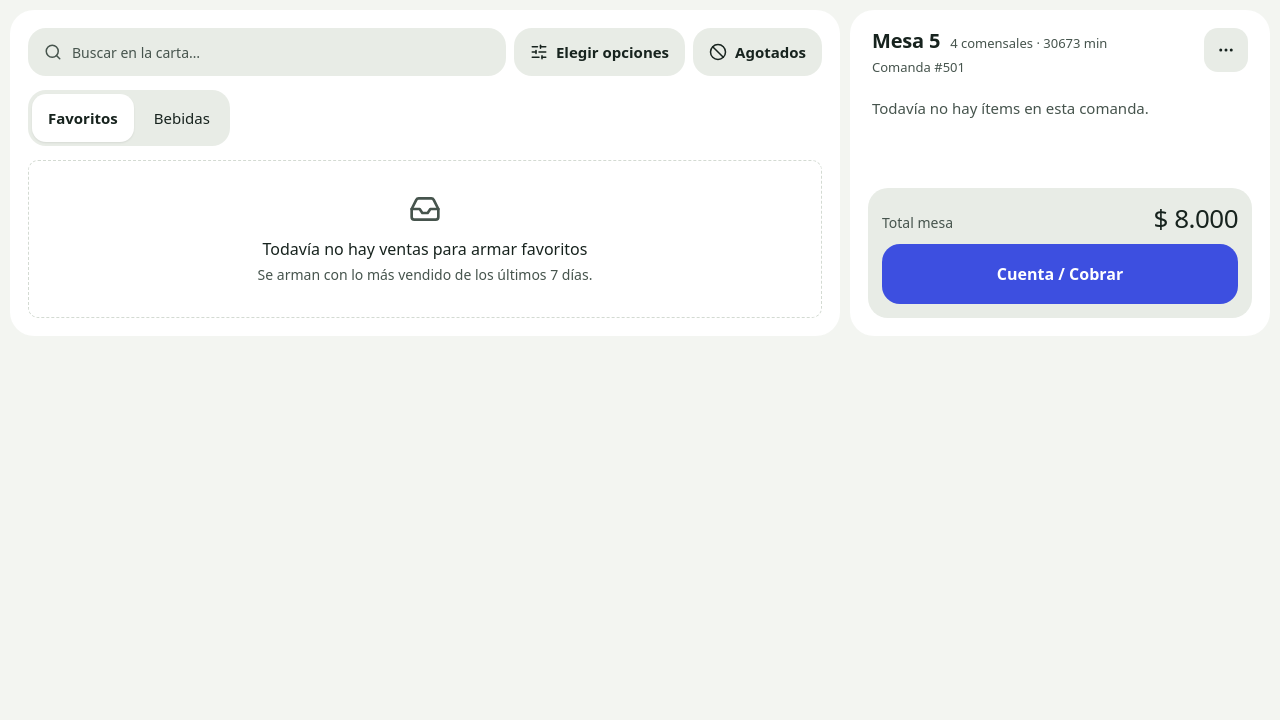
Test case: OrderPage › toque en la carta › «Elegir opciones» abre el diálogo para el próximo plato, y el siguiente toque vuelve a sumar directo
The image size is (1280, 720).
Click the button "Bebidas" at (182, 118), box [138,94,226,142]
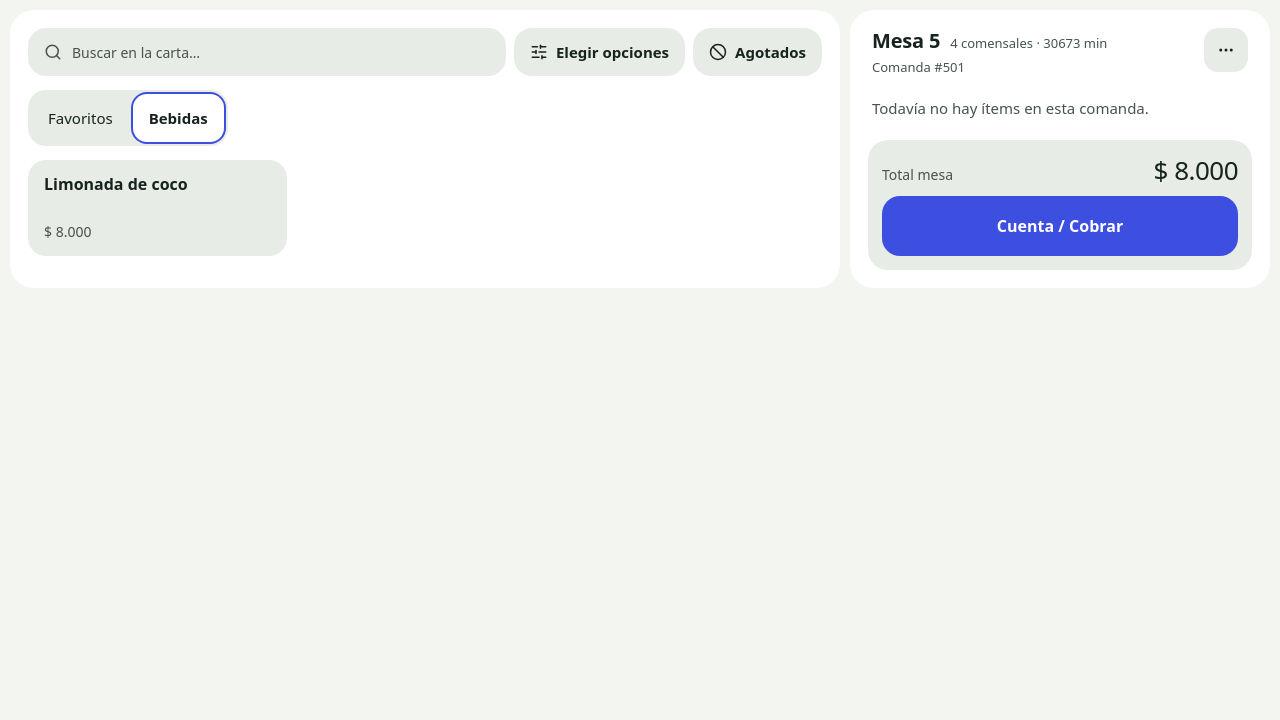
Click the button "Elegir opciones" at (600, 52), box [514,28,685,76]
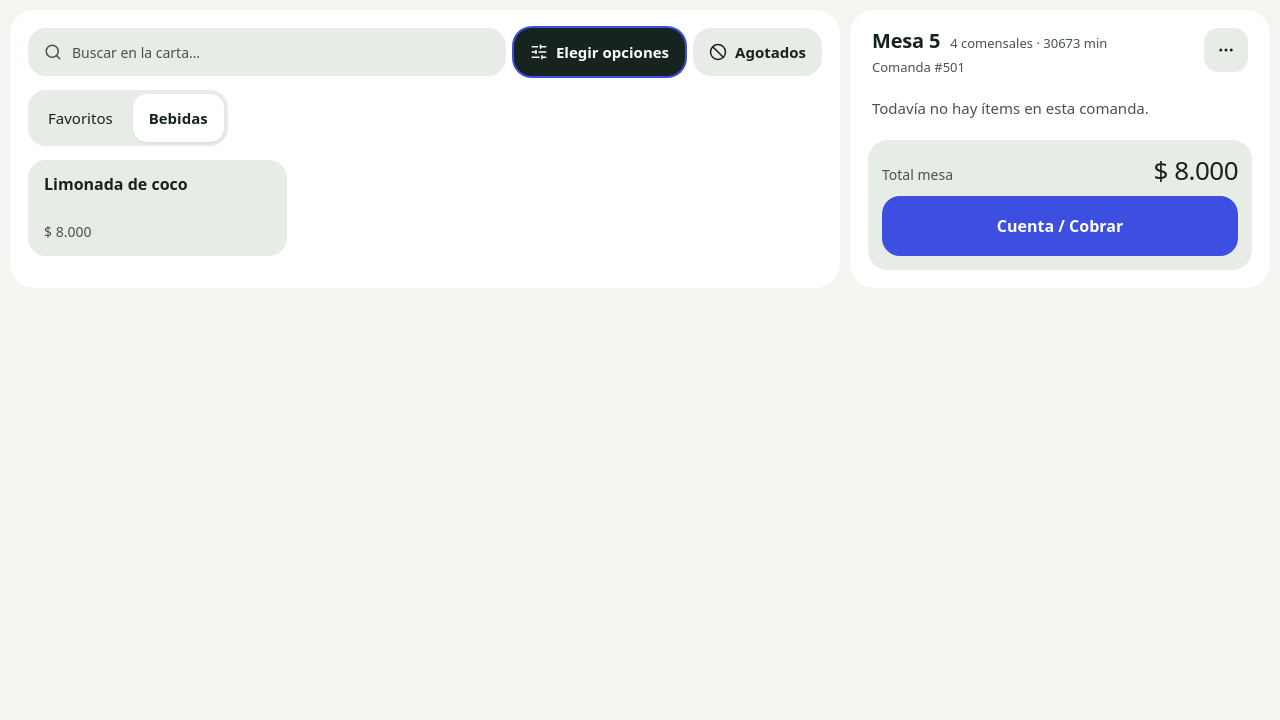
Result: the button "Elegir opciones" is pressed at [514,28,685,76]
Click the button with aria-label "agregar limonada de coco" at (158, 208), box [28,160,287,256]
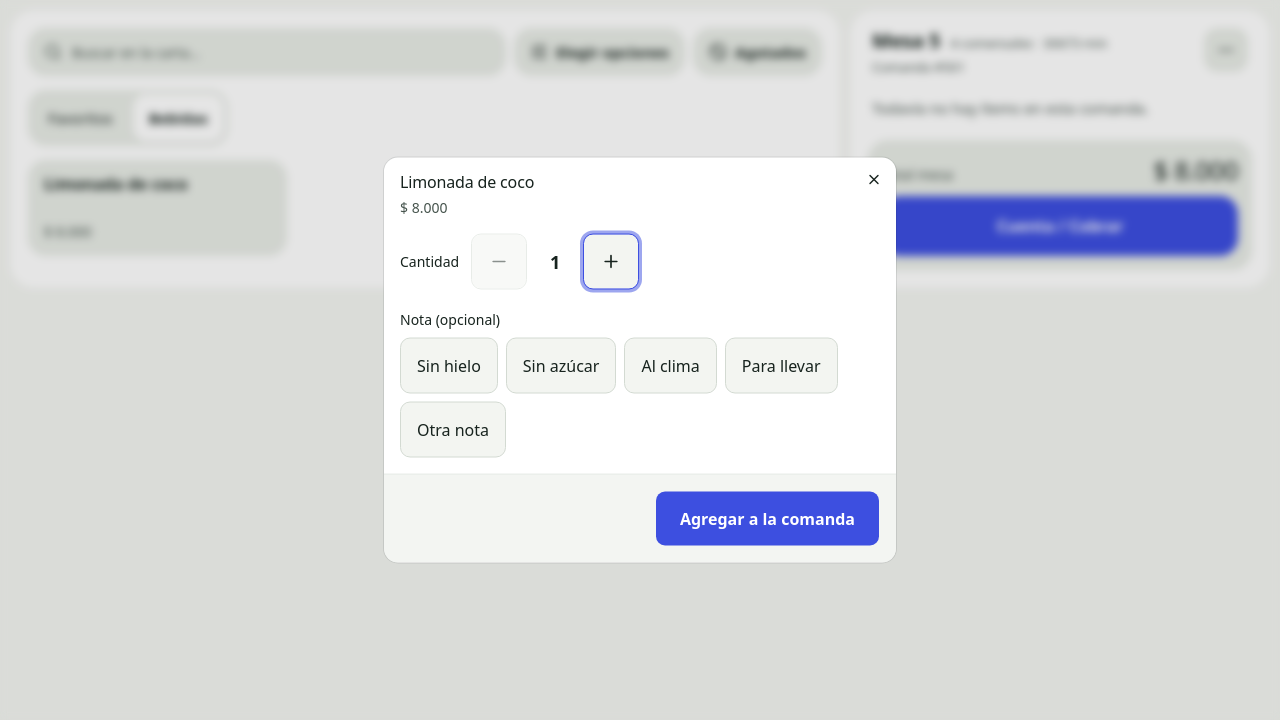
Result: the dialog is shown at [384,158,896,562]
